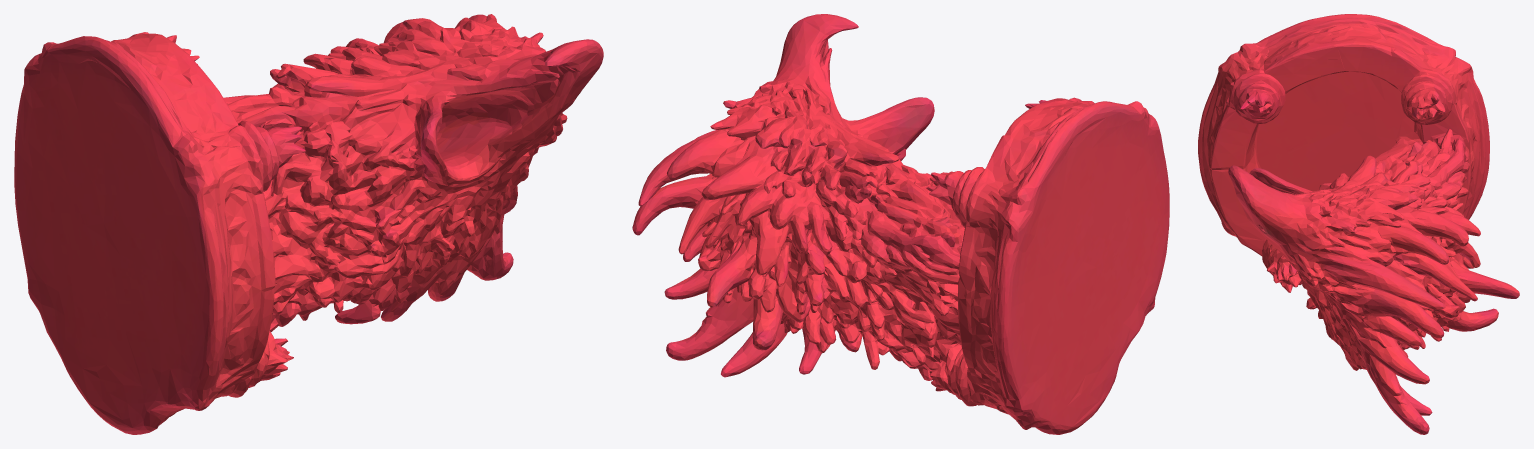
Rendered from phoenix-squawking-red.glb.
3 renders of one model, left to right at view 1: azimuth 30°, elevation 25°; view 2: azimuth 150°, elevation 25°; view 3: azimuth 270°, elevation 25°, orthographic. The views are drawn at different scales.
Parts seen in each view (by area): view 1: phoenix squawking red_textured.obj; view 2: phoenix squawking red_textured.obj; view 3: phoenix squawking red_textured.obj.
Part boxes in pixels (box(x1,y1,x2,y2)): phoenix squawking red_textured.obj: box(14, 14, 603, 434); phoenix squawking red_textured.obj: box(632, 14, 1169, 434); phoenix squawking red_textured.obj: box(1198, 14, 1519, 434).
Bounding box in the file's own units: 1.99 × 1.46 × 1.56.
1 material, 1 textured.
